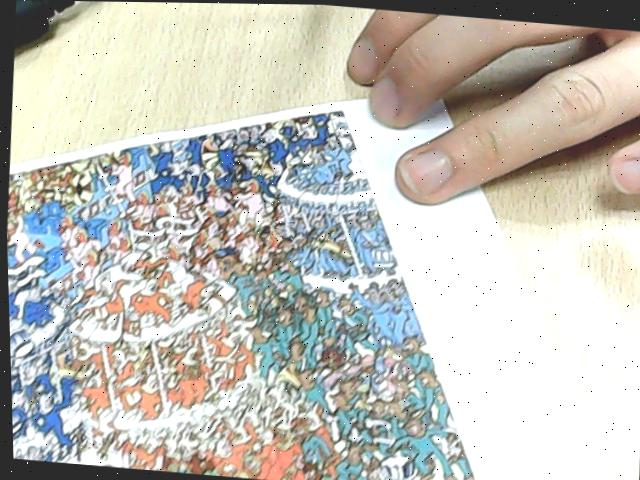waldo: (269, 220, 293, 240)
